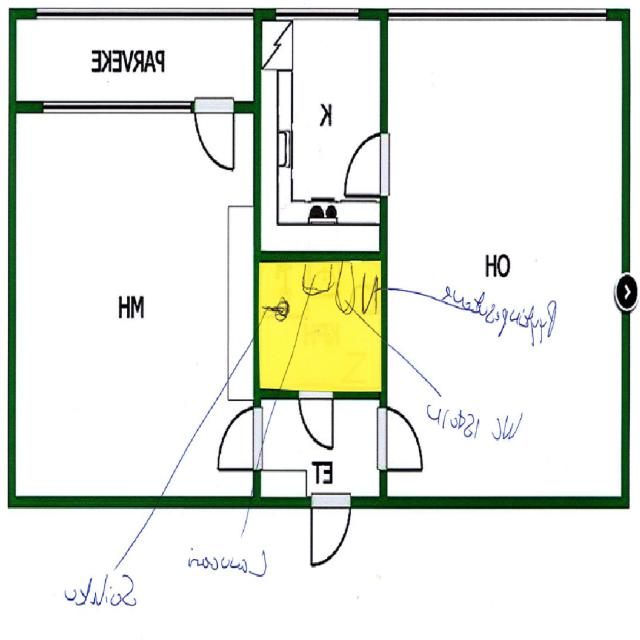door: (214, 407, 261, 469), (342, 133, 388, 194), (381, 407, 427, 468), (313, 496, 351, 569), (195, 100, 233, 173), (300, 386, 333, 452)
